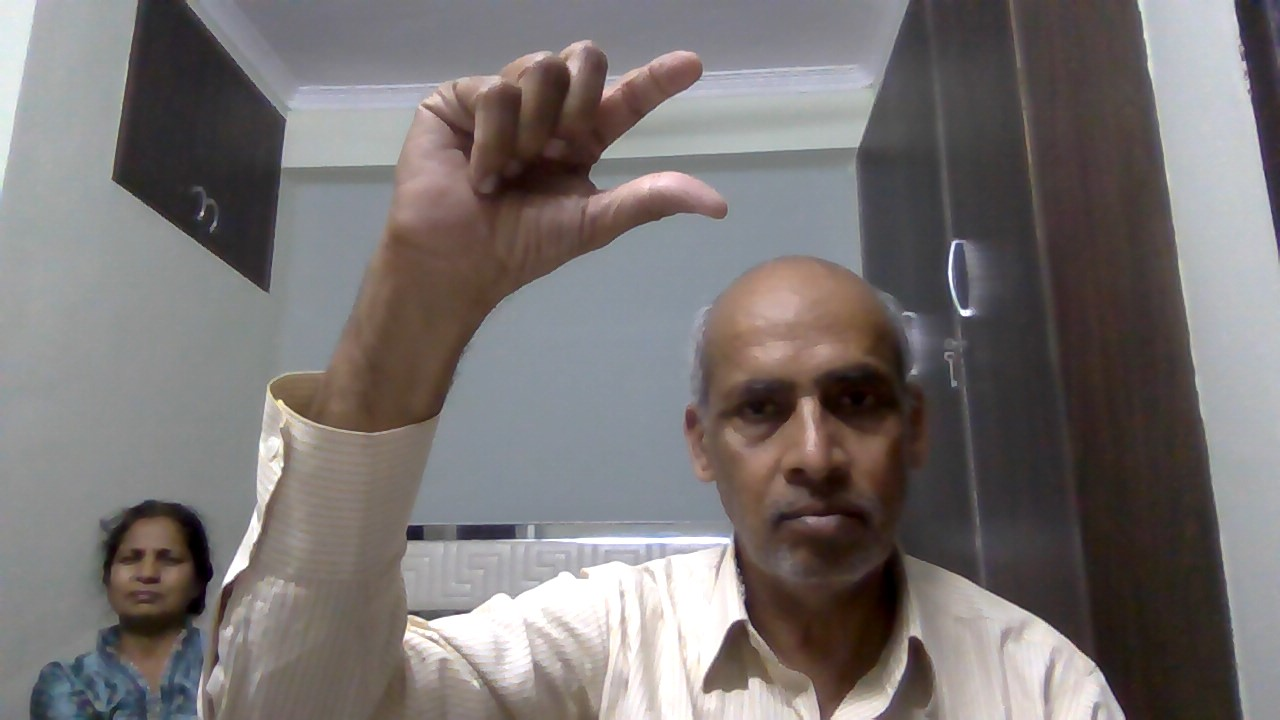Paste: (365, 34, 759, 298)
